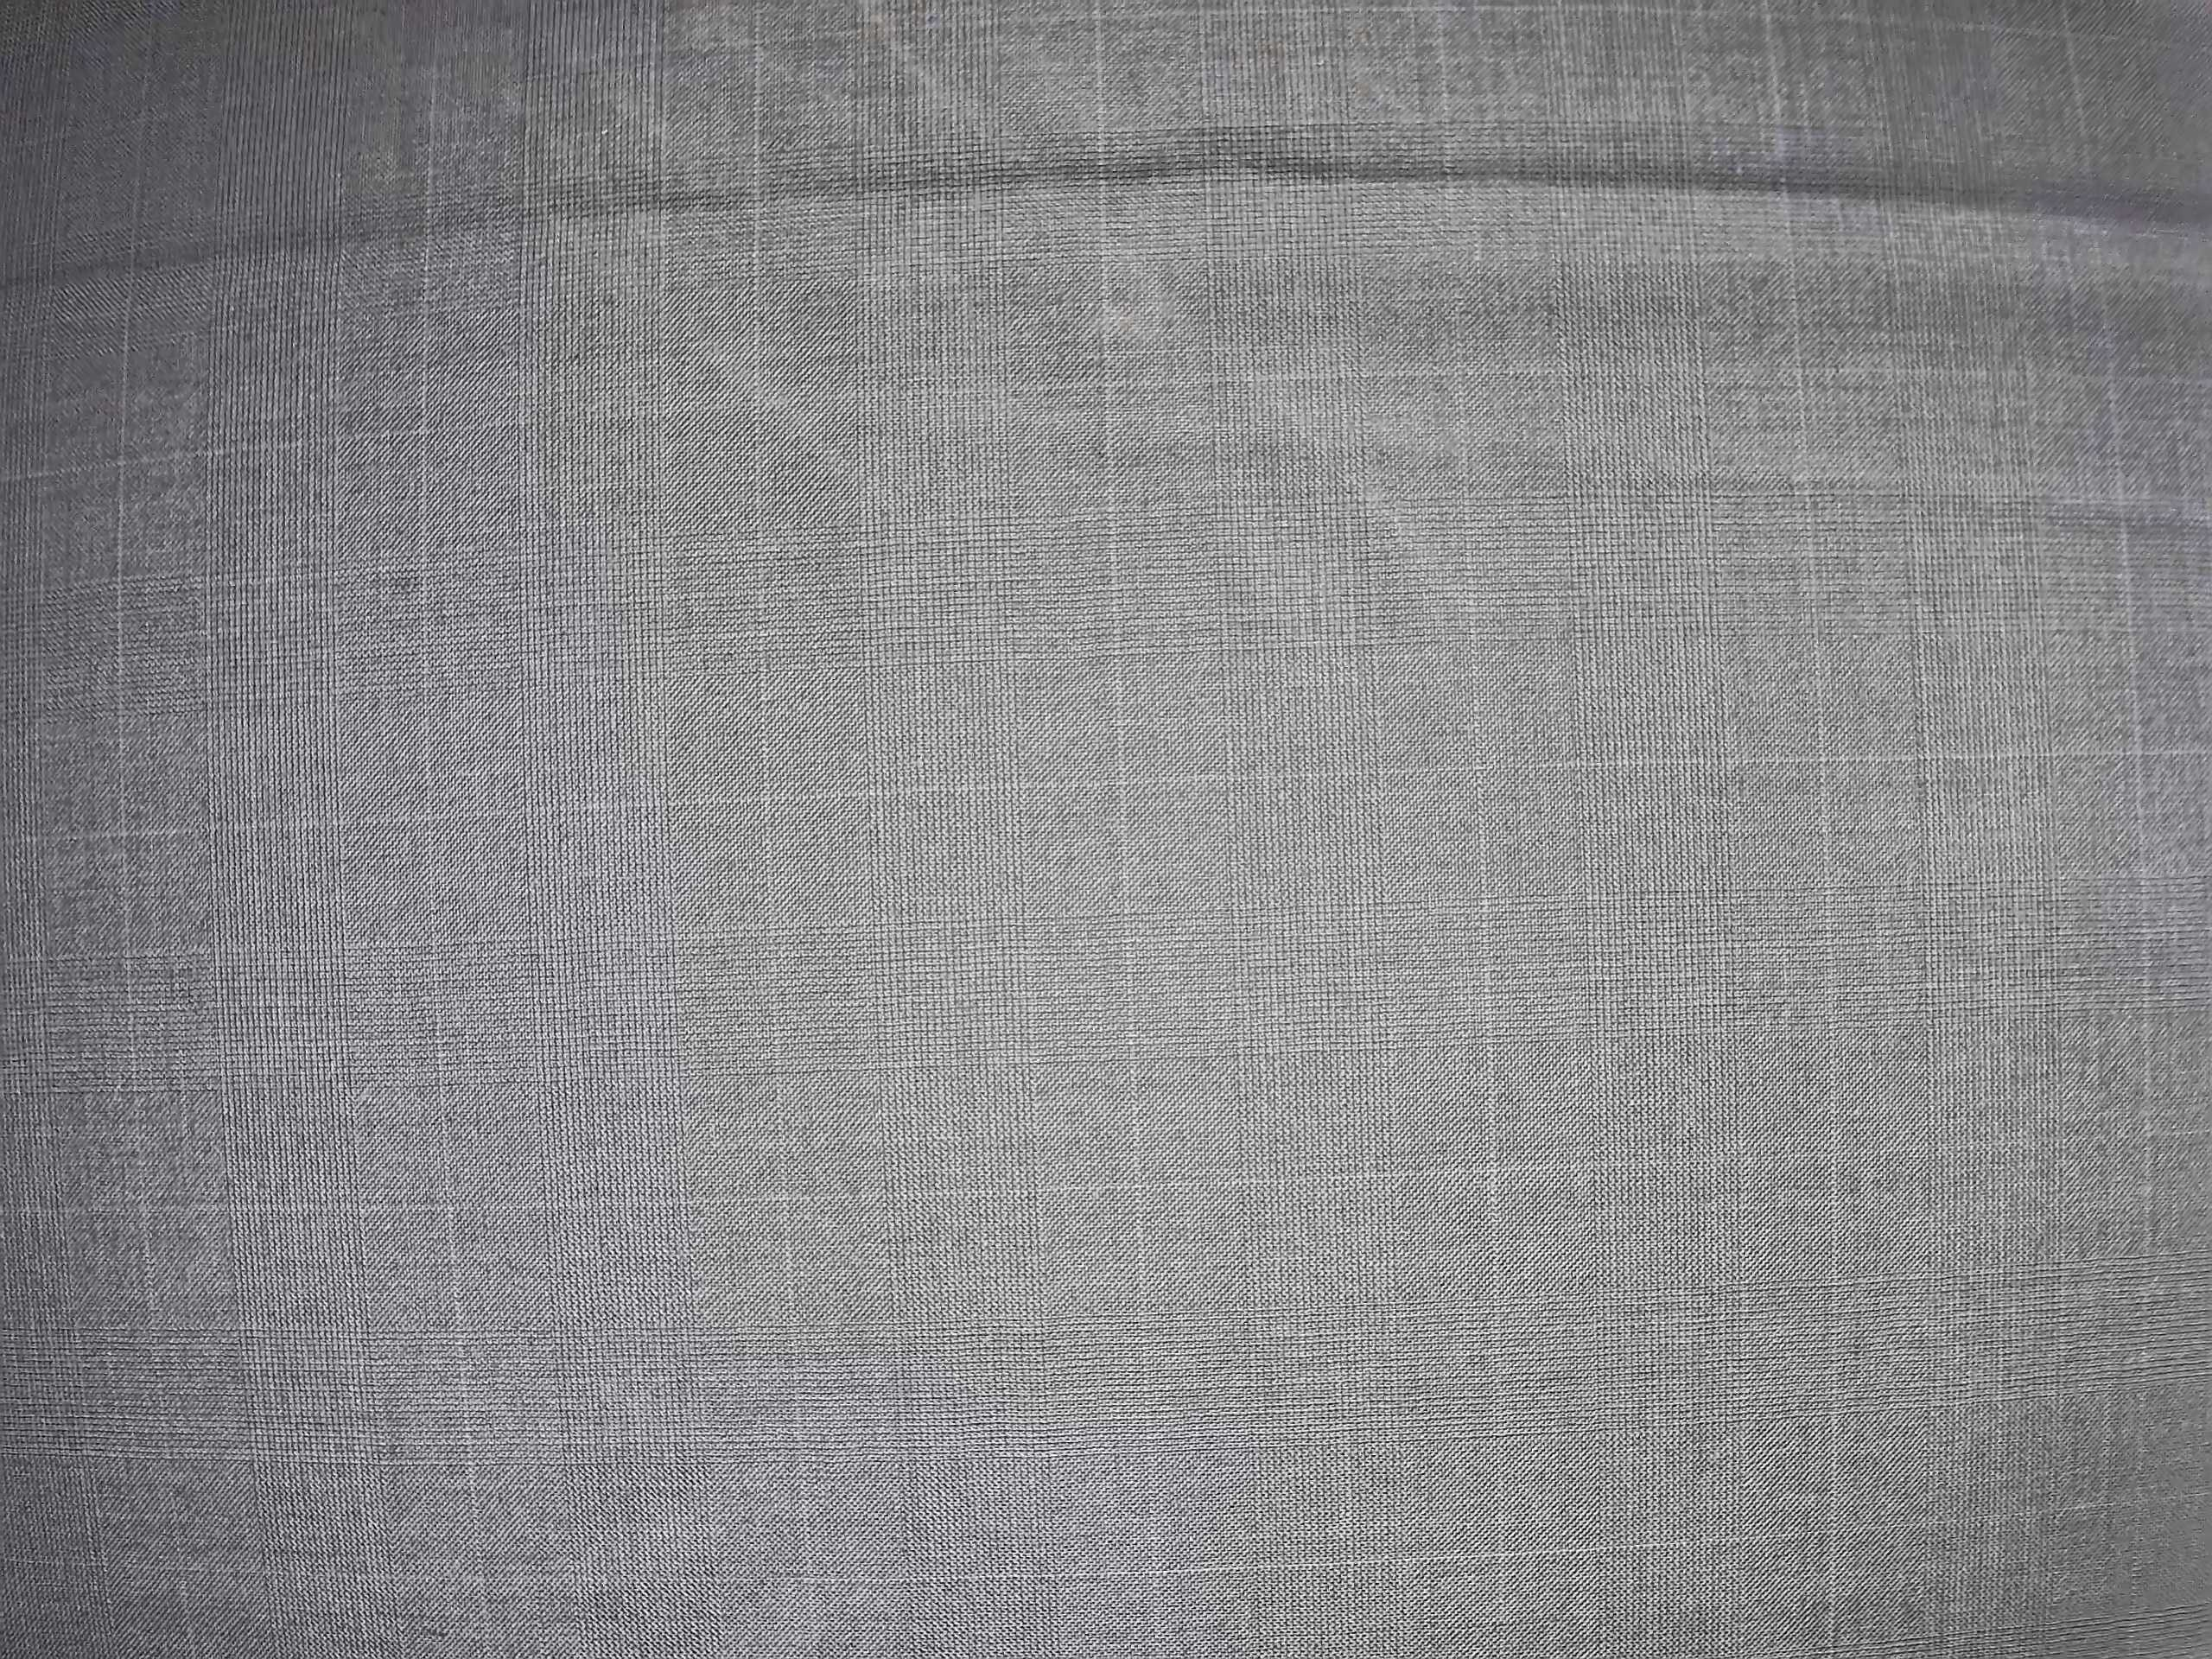stains: (1001, 146, 1220, 388)
